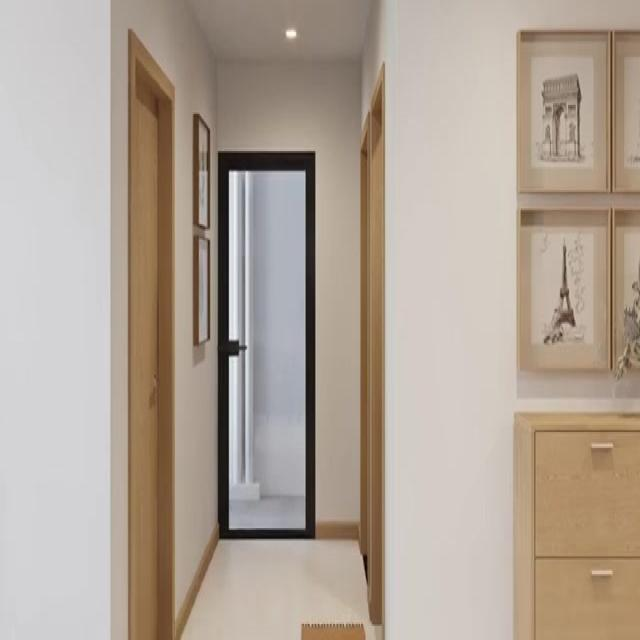door: (217, 149, 315, 537), (127, 26, 175, 640)
obstacle: (512, 411, 639, 638)
